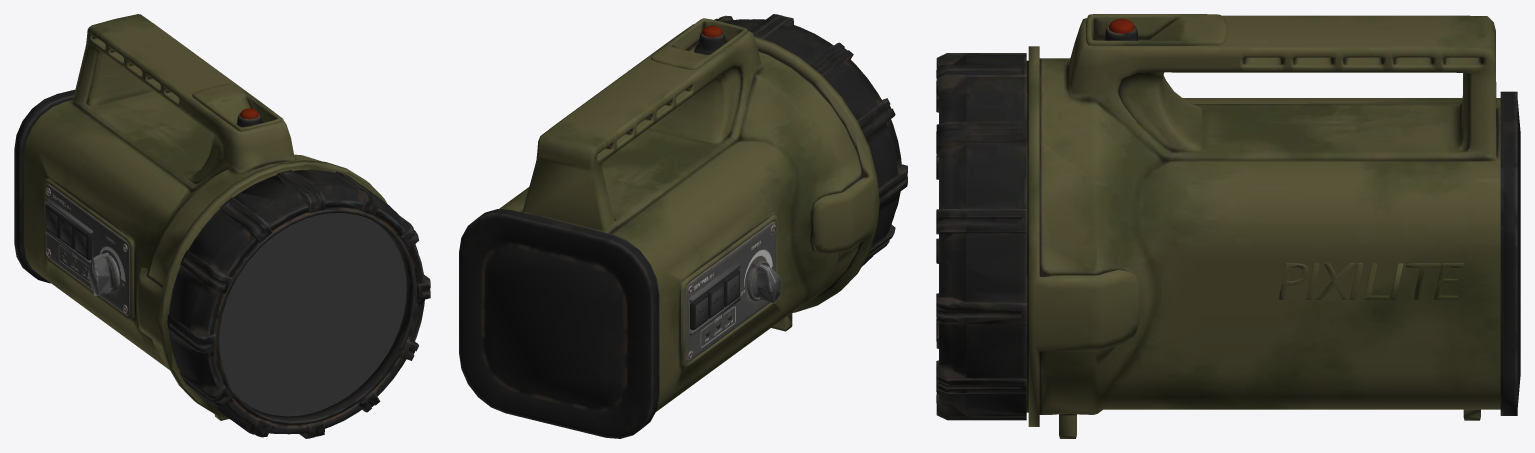
The model's file is portable_searchlight_1k.glb.
3 renders of one model, left to right at view 1: azimuth 30°, elevation 25°; view 2: azimuth 150°, elevation 25°; view 3: azimuth 270°, elevation 25°, orthographic. The views are drawn at different scales.
Visible parts, largest first — view 1: portable_searchlight; view 2: portable_searchlight; view 3: portable_searchlight.
Part boxes in pixels (x1=…): portable_searchlight: x1=14, y1=14, x2=430, y2=438; portable_searchlight: x1=459, y1=14, x2=907, y2=438; portable_searchlight: x1=936, y1=14, x2=1520, y2=438.
Size of the model in its own units: 0.1653 by 0.1854 by 0.2534.
2 materials, 2 textured.
